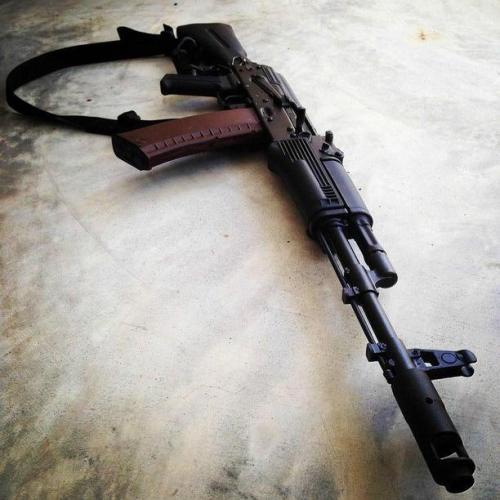ak47: (111, 24, 467, 488)
